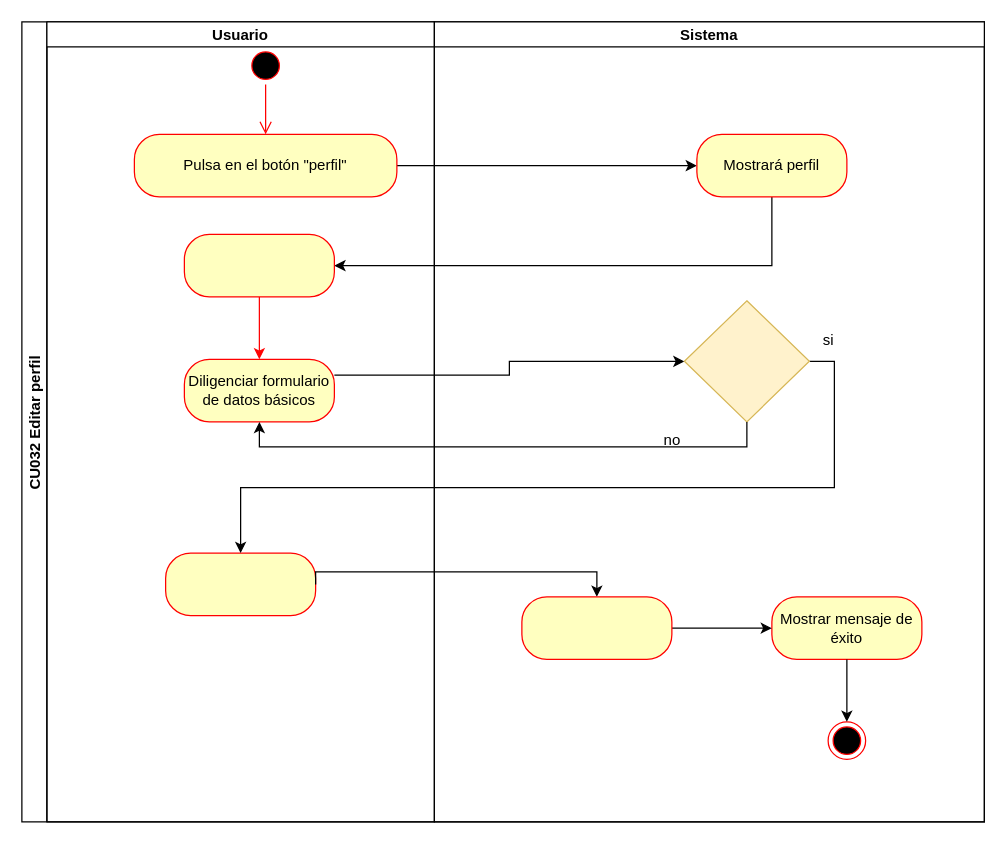
The diagram is 1006 pixels wide and 844 high, and some of its shapes have lost their labels. Here are the shapes that lost their labels. From the top down, the centre of each, then its label:
(258,265): Botón "Editar Perfil"
(746,361): Datos válidos
(240,584): Pulsar botón guardar cambios
(596,627): Cambios guardados
